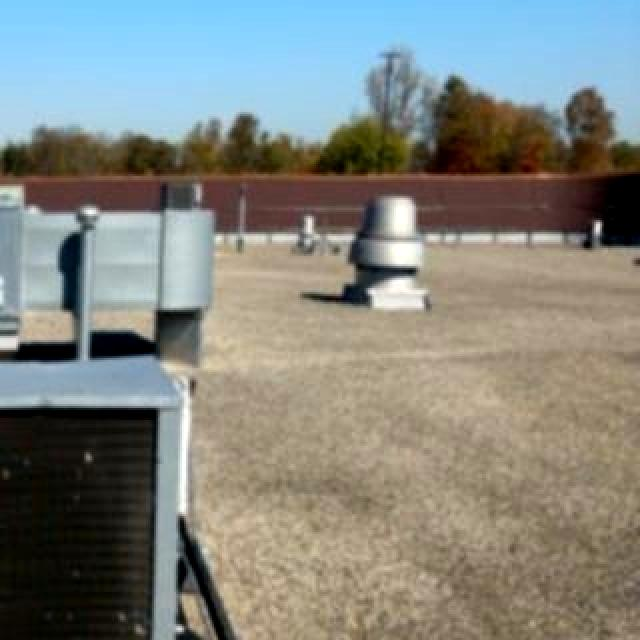GRAVITY-VENT: (348, 188, 429, 302)
SPLIT-SYSTEM: (0, 340, 200, 640)
